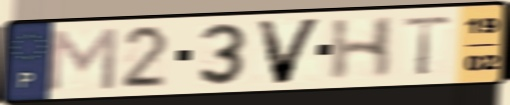2: (118, 24, 172, 91)
3: (196, 21, 250, 88)
H: (326, 14, 399, 83)
M: (44, 25, 121, 93)
T: (399, 13, 457, 78)
V: (253, 16, 327, 87)
